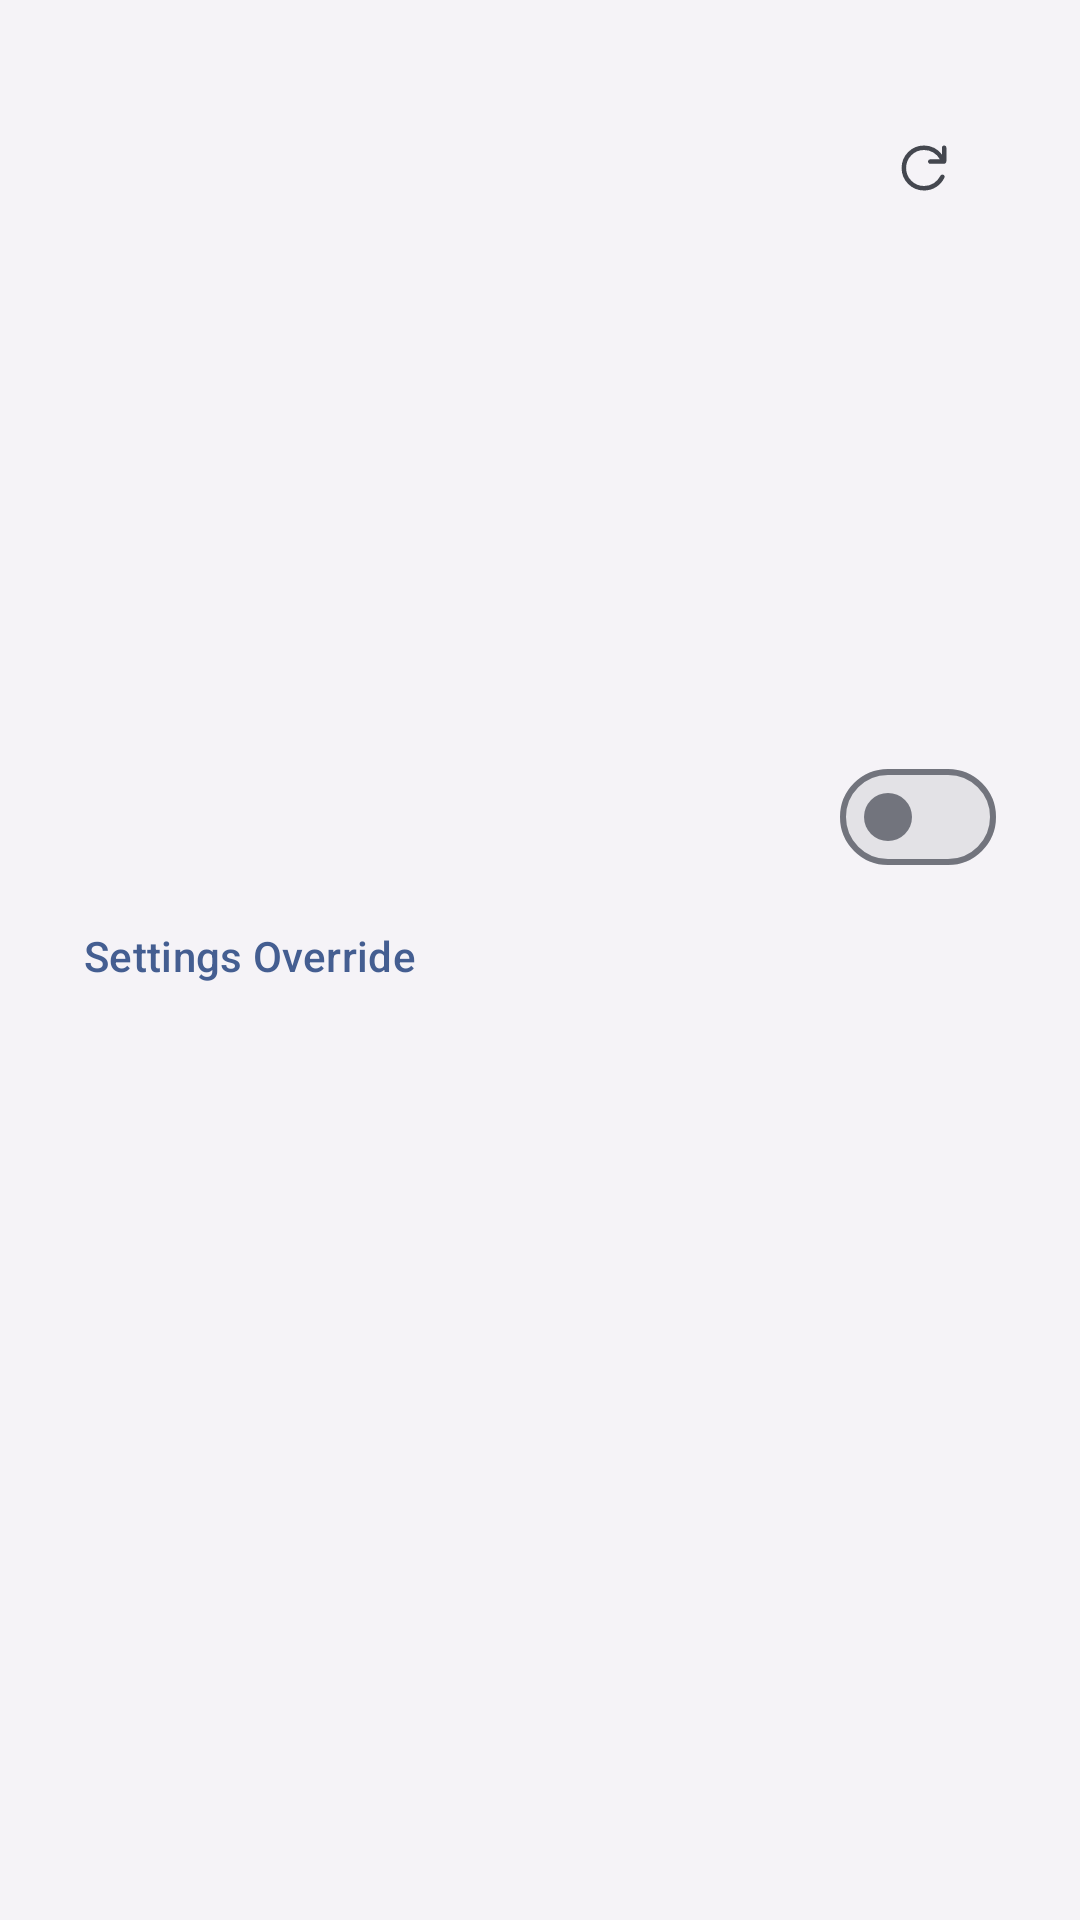

Locate icon controls on the screen. Image size 1080px x 1920px, boxes as rect(x1, y1, x2, y2).
Fetch from website: rect(901, 145, 947, 191)
